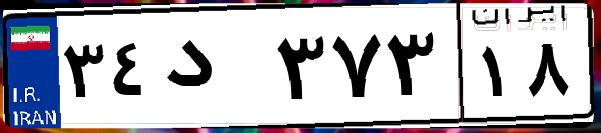1: (475, 38, 525, 113)
3: (270, 28, 330, 110), (385, 28, 445, 110), (57, 26, 110, 100)
4: (110, 28, 158, 98)
7: (330, 28, 385, 110)
8: (525, 38, 570, 115)
د: (158, 20, 270, 120)
